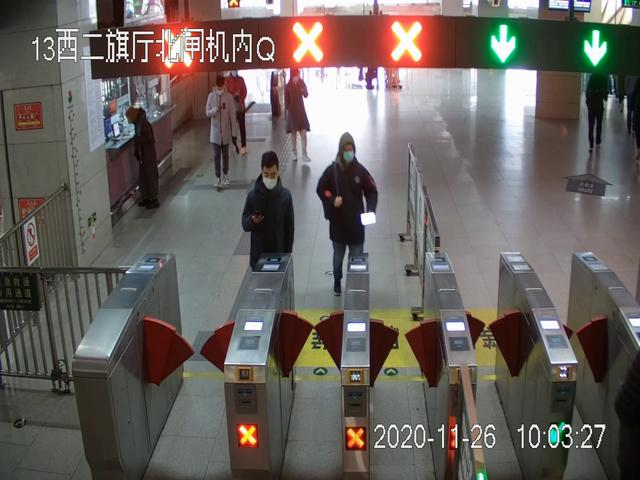person: (317, 133, 379, 295), (243, 152, 296, 307), (125, 104, 162, 209), (206, 76, 237, 190), (282, 68, 312, 167), (586, 71, 609, 154)
